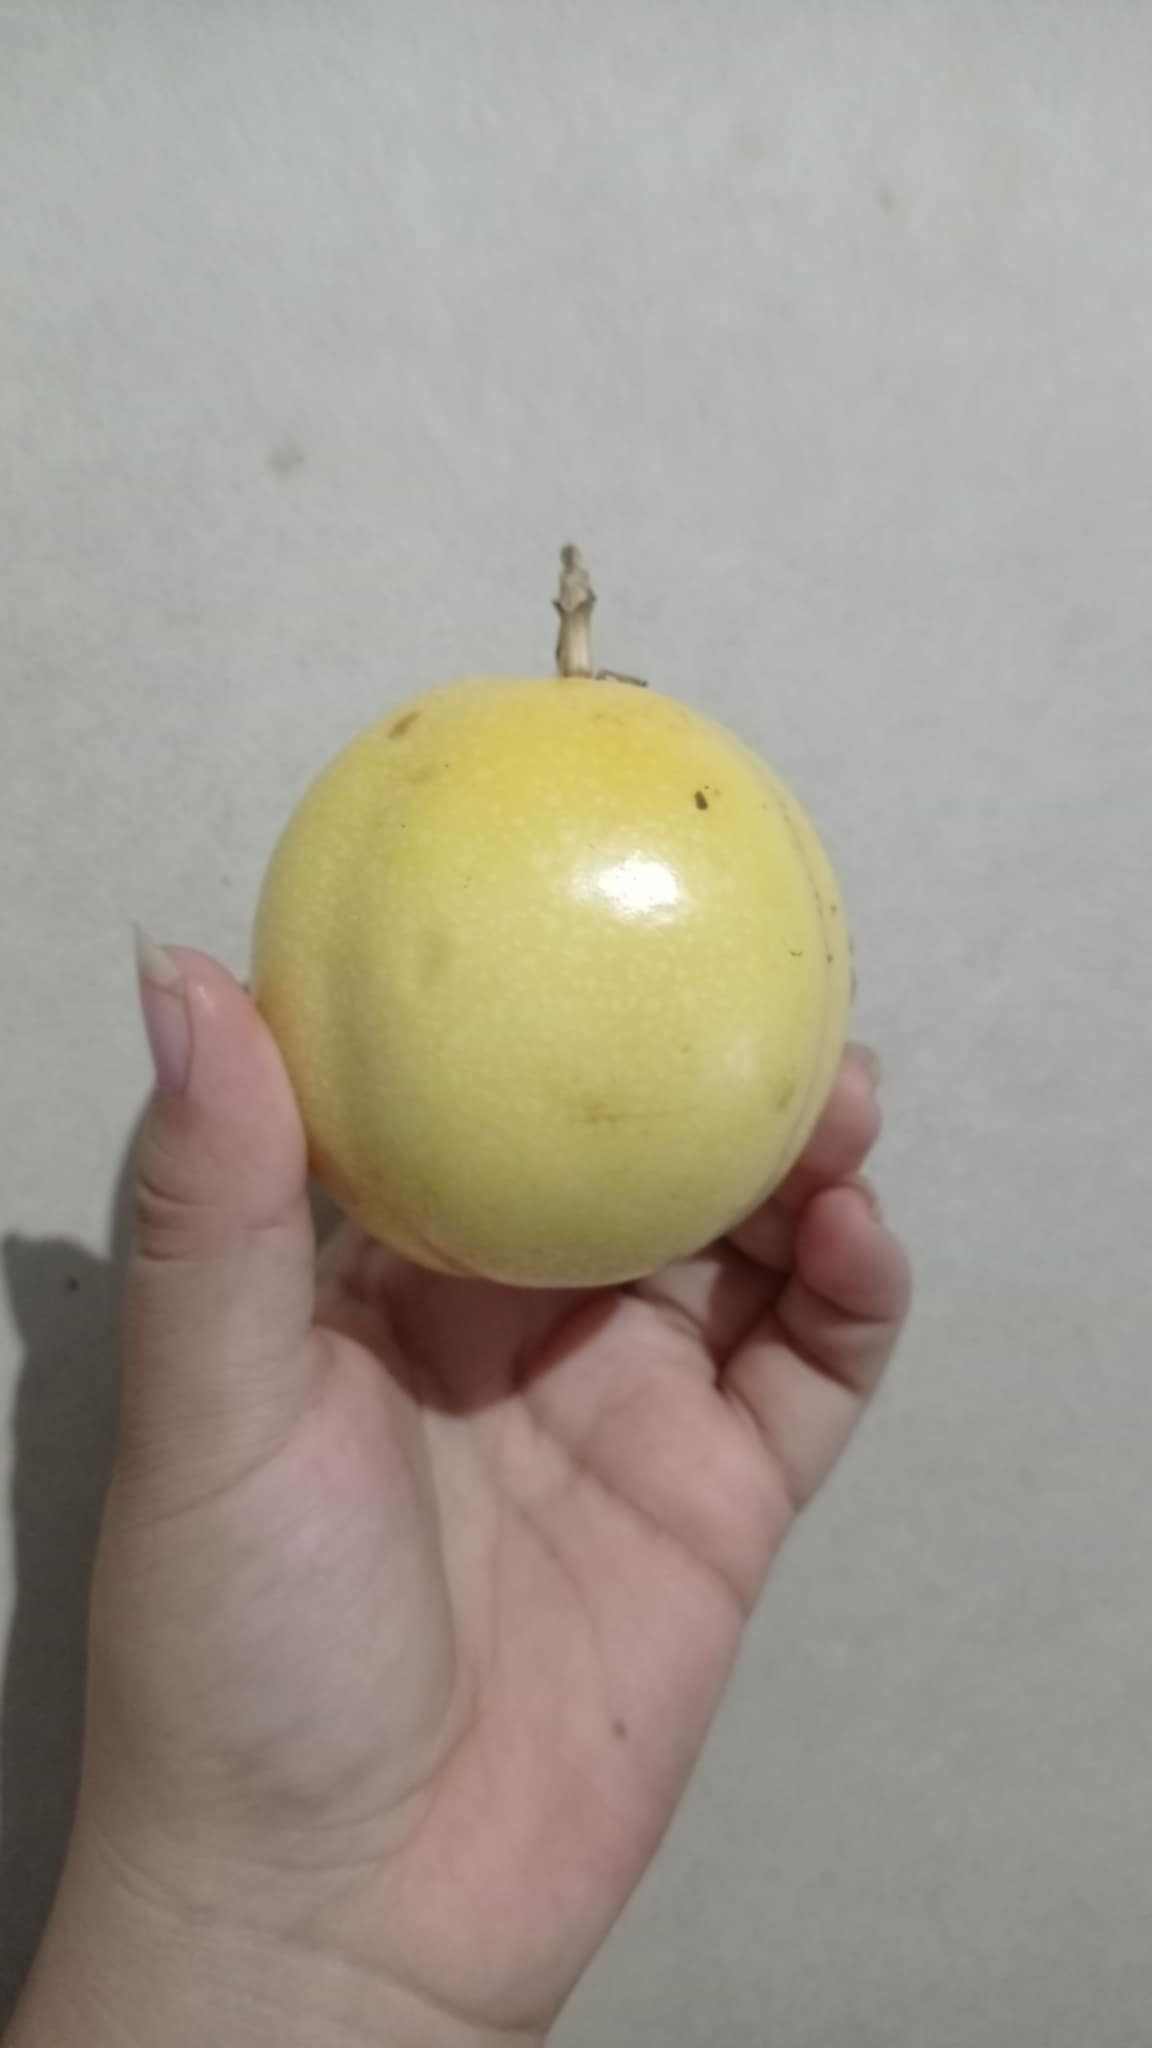maracuya: (197, 508, 881, 1311)
